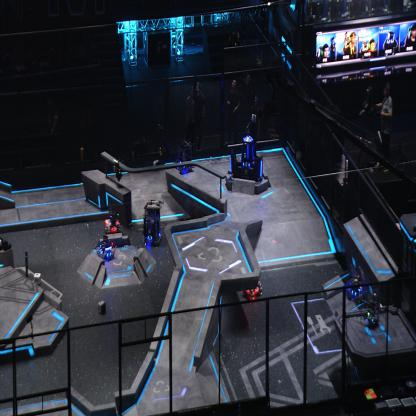car: (141, 197, 163, 245), (173, 138, 196, 173), (96, 233, 115, 262), (346, 273, 364, 303), (242, 273, 262, 299), (104, 207, 121, 233)
